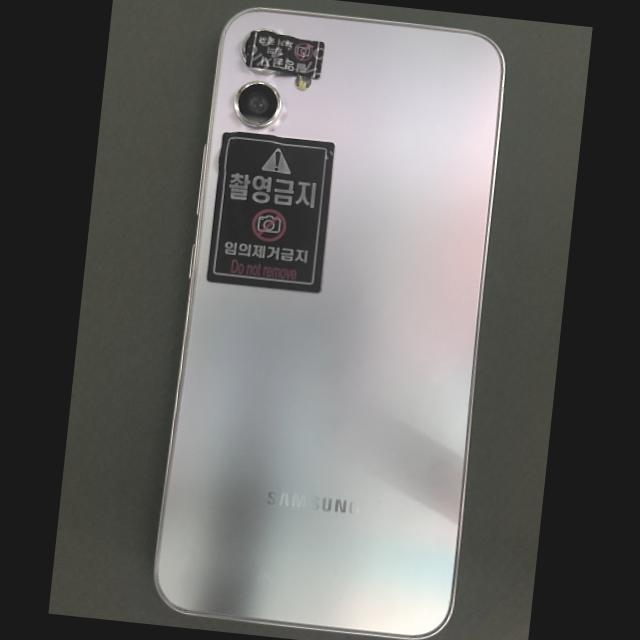lens: (236, 81, 280, 126), (241, 27, 278, 62)
phone: (154, 8, 504, 638)
sticker: (207, 132, 334, 291), (245, 30, 325, 79)
